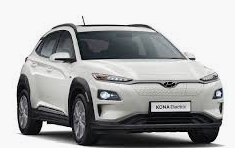car: (15, 15, 225, 147)
